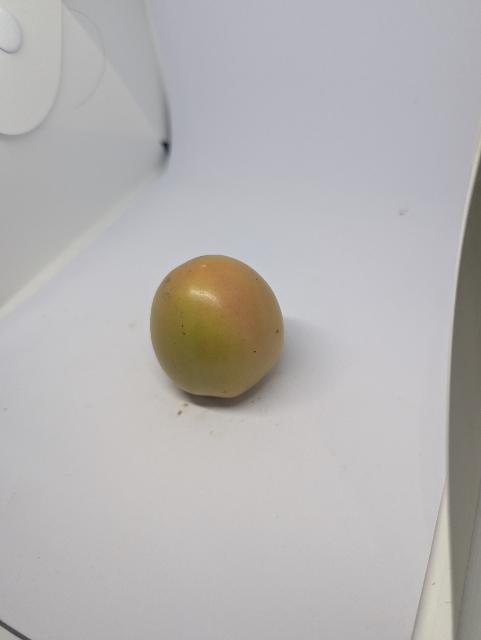turning: (139, 247, 301, 411)
